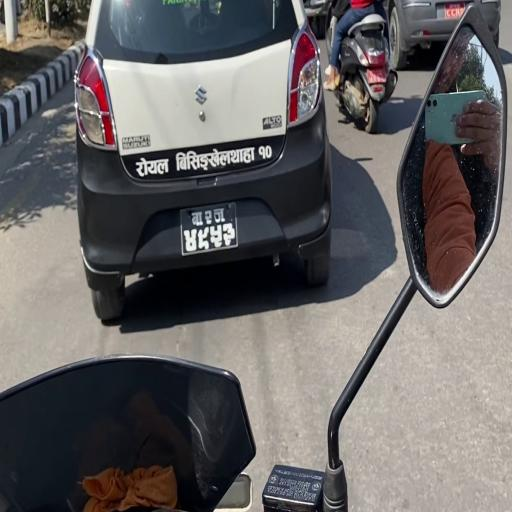license_plate: (179, 200, 242, 256)
